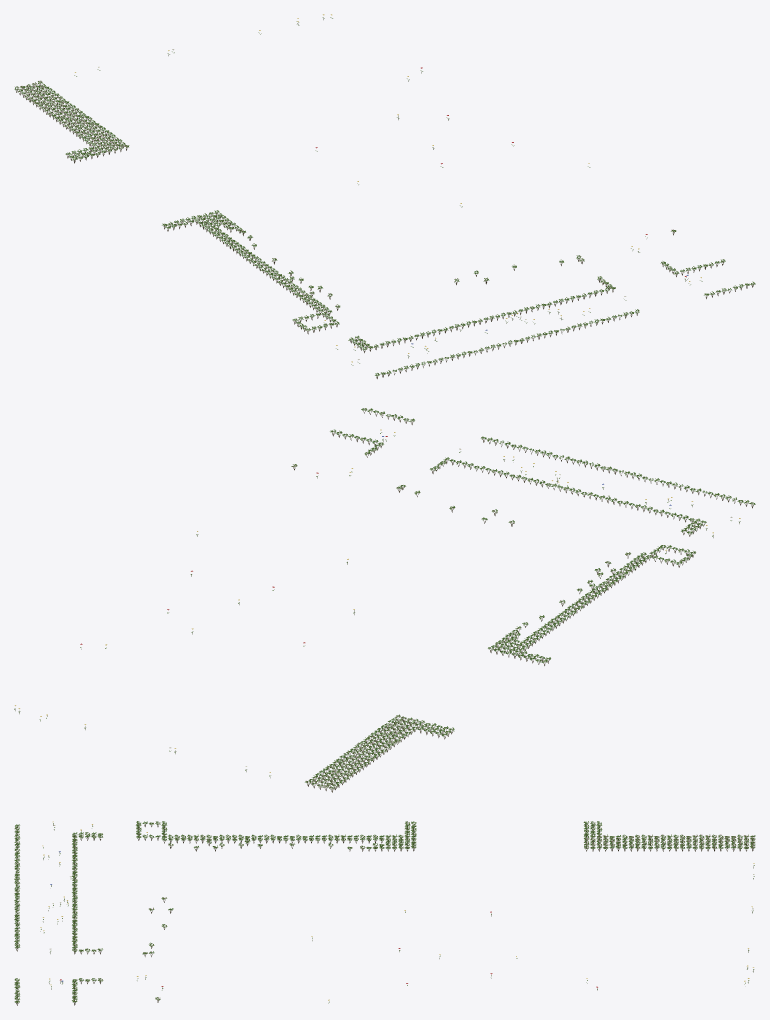
3 views of the same model, one above another, from view 1: azimuth 30°, elevation 25°; view 2: azimuth 150°, elevation 25°; view 3: azimuth 270°, elevation 25° (orthographic). The views are drawn at different scales.
Visible parts, largest first — view 1: GROUND_FLORA_s_-6_-4; view 2: GROUND_FLORA_s_-6_-4; view 3: GROUND_FLORA_s_-6_-4.
Part boxes in pixels (<box>): GROUND_FLORA_s_-6_-4: <box>14,14,755,378</box>; GROUND_FLORA_s_-6_-4: <box>14,408,755,792</box>; GROUND_FLORA_s_-6_-4: <box>14,821,755,1005</box>.
Size of the model in its own units: 66.99 by 0.9729 by 116.
